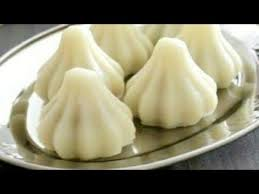modak: (50, 65, 139, 164), (129, 37, 219, 133), (29, 26, 132, 104)
